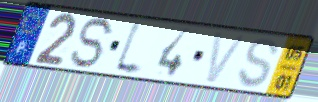2: (32, 11, 79, 69)
4: (154, 27, 191, 80)
L: (111, 18, 146, 80)
S: (67, 16, 118, 70), (236, 37, 280, 90)
V: (204, 31, 249, 86)
